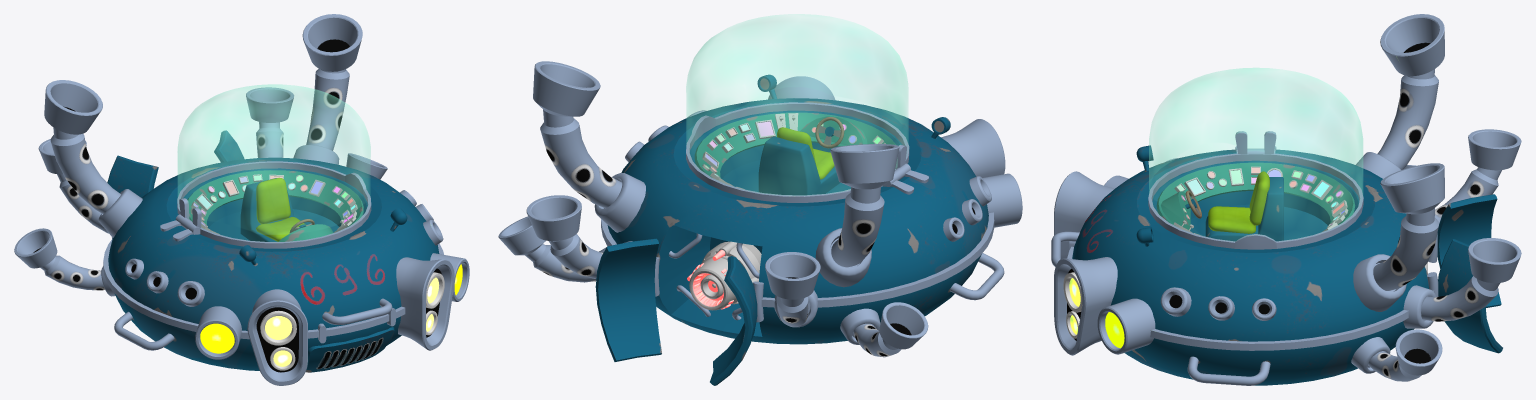
File: ship.fbx
3 views of the same model, side by side, from view 1: azimuth 30°, elevation 25°; view 2: azimuth 150°, elevation 25°; view 3: azimuth 270°, elevation 25° (orthographic). The views are drawn at different scales.
Visible parts, largest first — view 1: Mex..014_low, Mex..015_low, Mex1234_low, Mex777_low, Mex..154_low, Mex..016_low, Mex888_low, Mex..991_low, Mex..020_low, Mex123456_low, Mex..156_low, Mex555_low (+10 smaller); view 2: Mex..014_low, Mex..015_low, Mex1234_low, Mex..023_low, Mex..156_low, Mex..154_low, Mex777_low, Mex..070_low, Mex..016_low, Mex..024_low, Mex..020_low, Mex..166_low (+6 smaller); view 3: Mex..014_low, Mex..015_low, Mex1234_low, Mex777_low, Mex..154_low, Mex..156_low, Mex..016_low, Mex888_low, Mex..023_low, Mex..020_low, Mex..024_low, Mex123456_low (+9 smaller).
Part boxes in pixels (box(x1,y1,x2,y2)): Mex..014_low: box(108, 157, 439, 370); Mex..015_low: box(177, 84, 370, 235); Mex1234_low: box(14, 14, 387, 290); Mex777_low: box(247, 257, 454, 385); Mex..154_low: box(177, 161, 371, 248); Mex..016_low: box(187, 170, 363, 227); Mex888_low: box(195, 253, 469, 359); Mex..991_low: box(306, 327, 394, 372); Mex..020_low: box(103, 239, 443, 339); Mex123456_low: box(125, 190, 443, 306); Mex..156_low: box(98, 145, 339, 296); Mex555_low: box(260, 272, 444, 345); Mex..014_low: box(607, 98, 988, 344); Mex..015_low: box(686, 14, 908, 195); Mex1234_low: box(498, 61, 928, 357); Mex..023_low: box(595, 238, 661, 361); Mex..156_low: box(594, 173, 880, 344); Mex..154_low: box(686, 102, 909, 202); Mex777_low: box(768, 76, 1005, 177); Mex..070_low: box(758, 136, 840, 195); Mex..016_low: box(694, 112, 896, 178); Mex..024_low: box(710, 255, 757, 385); Mex..020_low: box(601, 212, 994, 307); Mex..166_low: box(689, 241, 761, 310); Mex..014_low: box(1072, 149, 1428, 385); Mex..015_low: box(1149, 68, 1363, 241); Mex1234_low: box(1368, 14, 1521, 381); Mex777_low: box(1054, 171, 1117, 355); Mex..154_low: box(1148, 153, 1363, 249); Mex..156_low: box(1351, 152, 1436, 373); Mex..016_low: box(1156, 162, 1355, 225); Mex888_low: box(1097, 175, 1155, 354); Mex..023_low: box(1438, 239, 1502, 353); Mex..020_low: box(1067, 246, 1434, 350); Mex..024_low: box(1437, 194, 1501, 307); Mex123456_low: box(1160, 158, 1276, 320).
Size of the model in its own units: 552 by 307 by 553.
